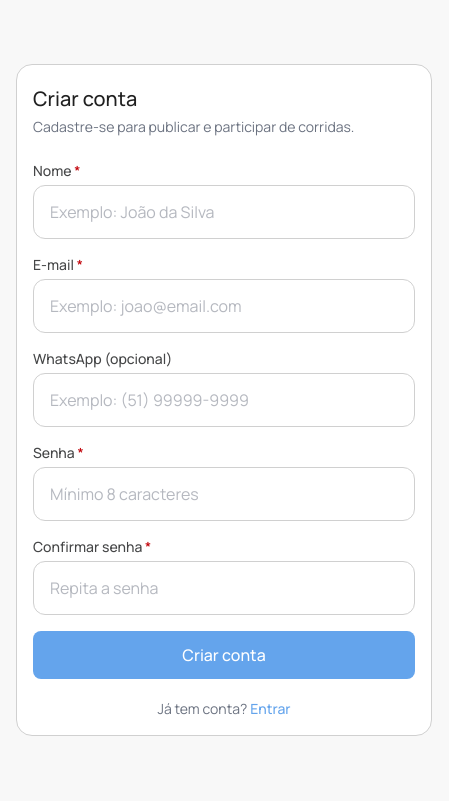
Test: SignUp › shows validation errors for empty required fields on submit
Click the button "Criar conta".
click(224, 655)  # box [33,631,415,679]
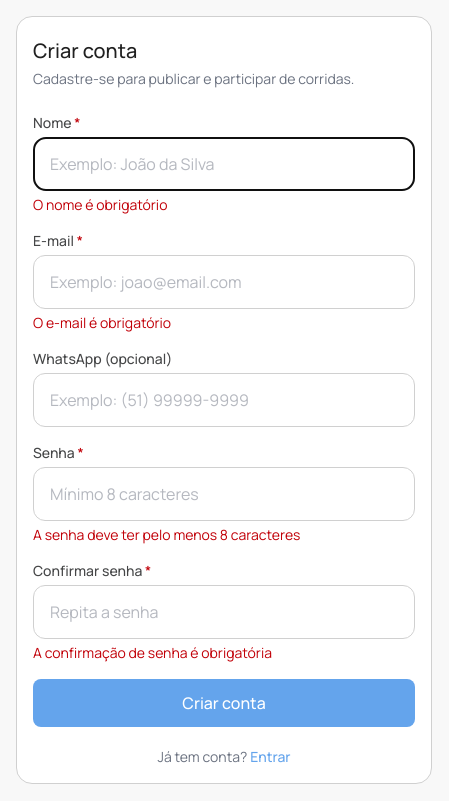
Expected: the text "O nome é obrigatório" is shown, [33,195,167,214]
Expected: the text "O e-mail é obrigatório" is shown, [33,313,171,332]
Expected: the text "A senha deve ter pelo menos 8 caracteres" is shown, [33,525,300,544]
